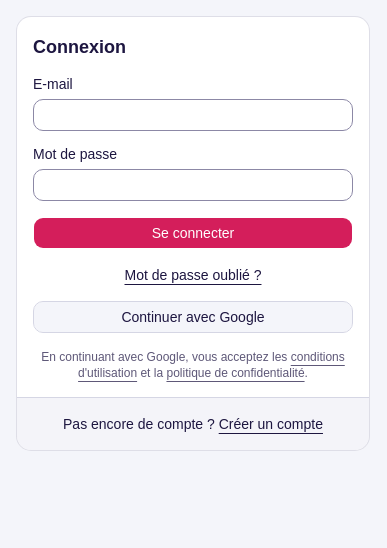
Scenario: LoginPage › shows validation errors next to the field
In the field labelled "E-mail": {"x": 193, "y": 115} 33,99 -> 353,131, type "alice@example"
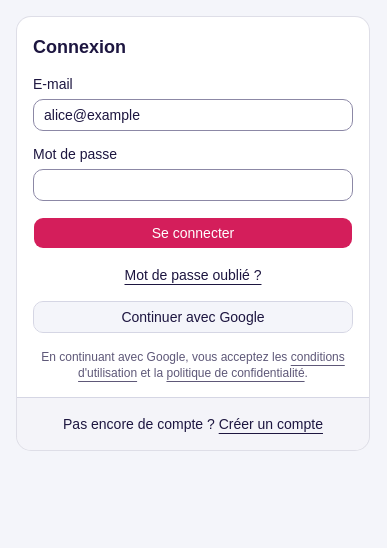
In the password field labelled "Mot de passe": {"x": 193, "y": 185} 33,169 -> 353,201, type "correct horse battery staple"
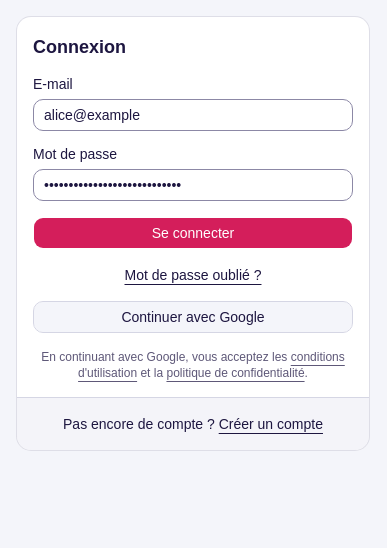
Click the button "Se connecter": {"x": 193, "y": 233} 33,217 -> 353,249
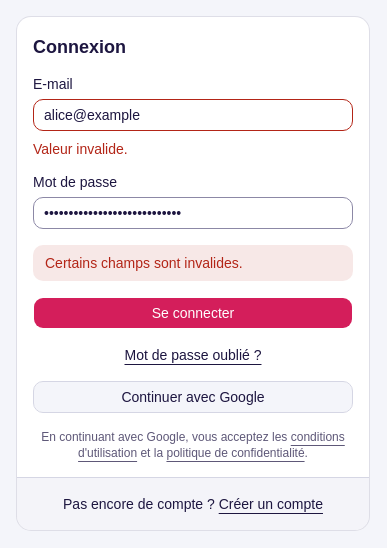
Expected: the text "Valeur invalide." is shown, 33,141 -> 128,157
